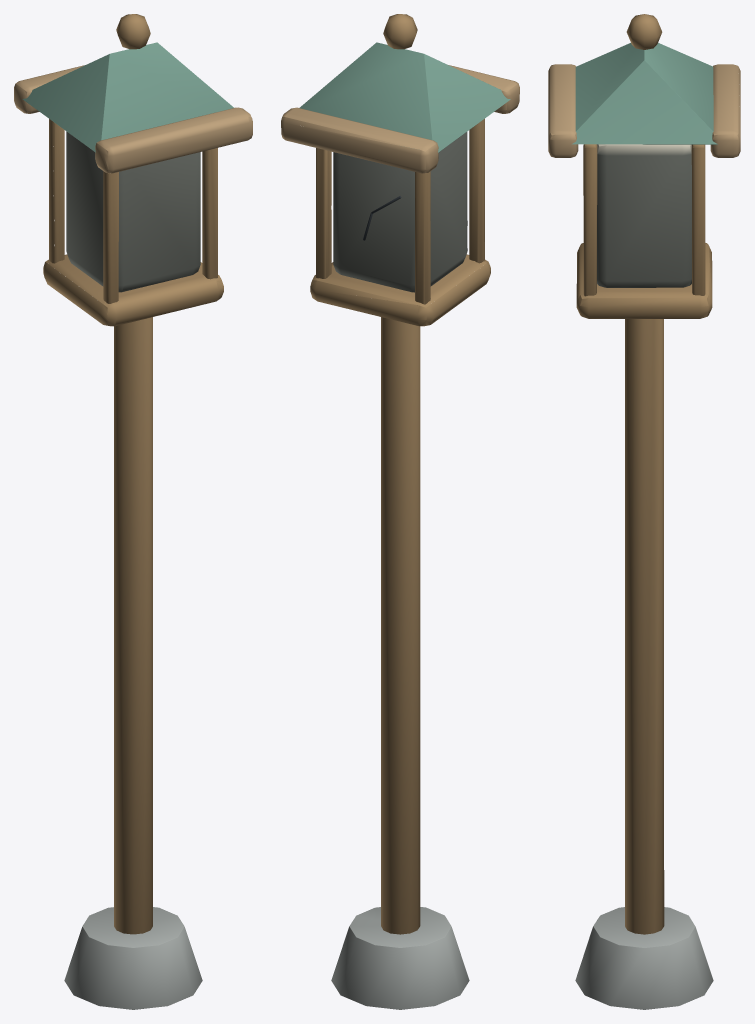
File: lamp_broken.glb
The picture shows the model from 3 angles, left to right: view 1: azimuth 30°, elevation 25°; view 2: azimuth 150°, elevation 25°; view 3: azimuth 270°, elevation 25°; orthographic projection.
Bounding box in the file's own units: 0.5699 × 3.55 × 0.6401.
